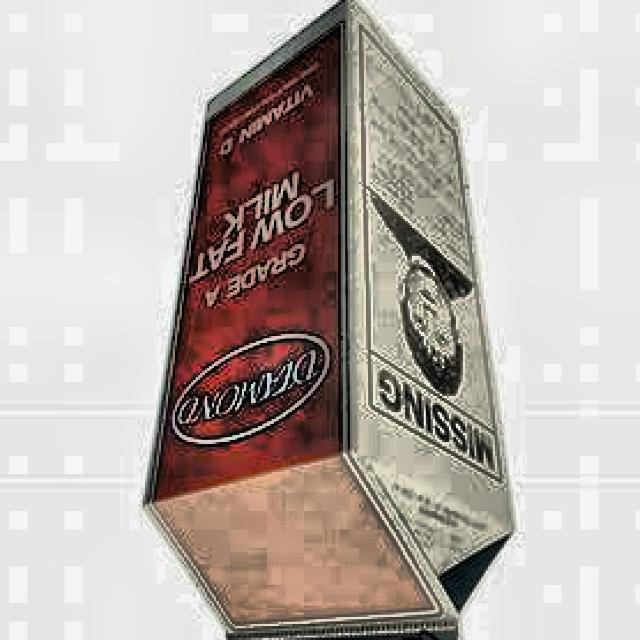cardboard: (142, 0, 520, 640)
